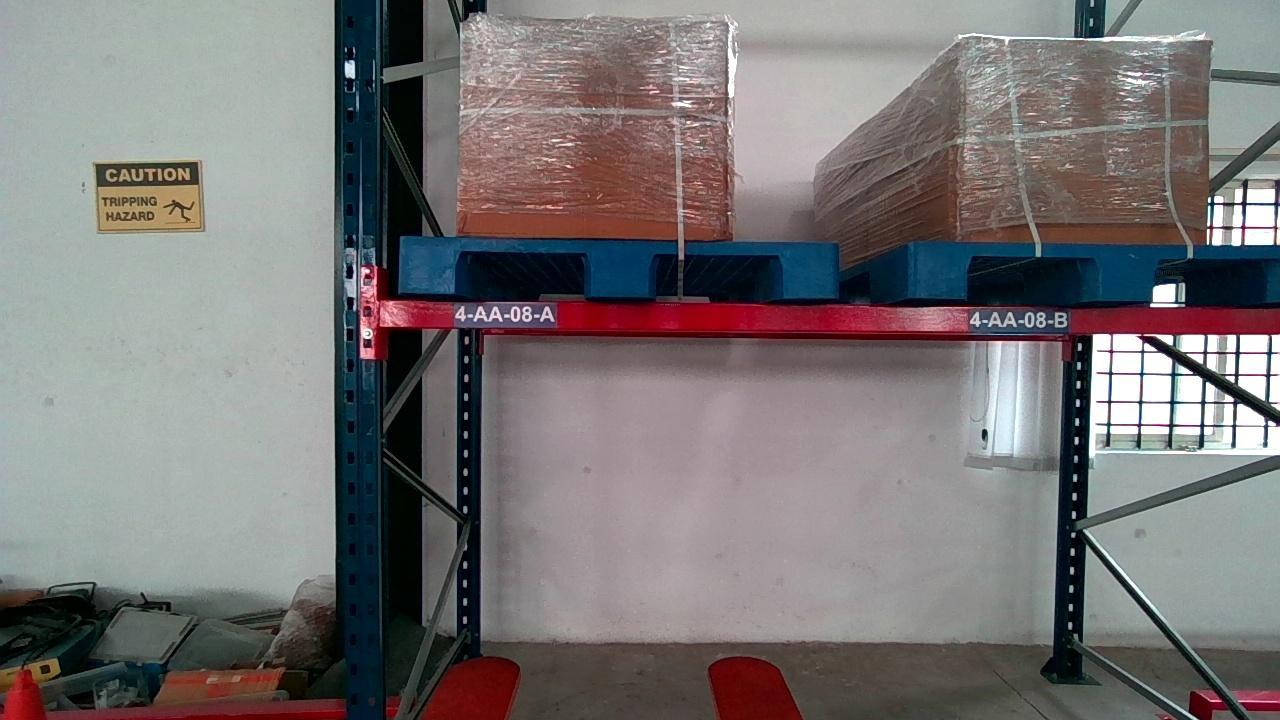h_rack: (380, 300, 1279, 331)
small_pallet: (403, 238, 836, 297), (912, 242, 1280, 303)
